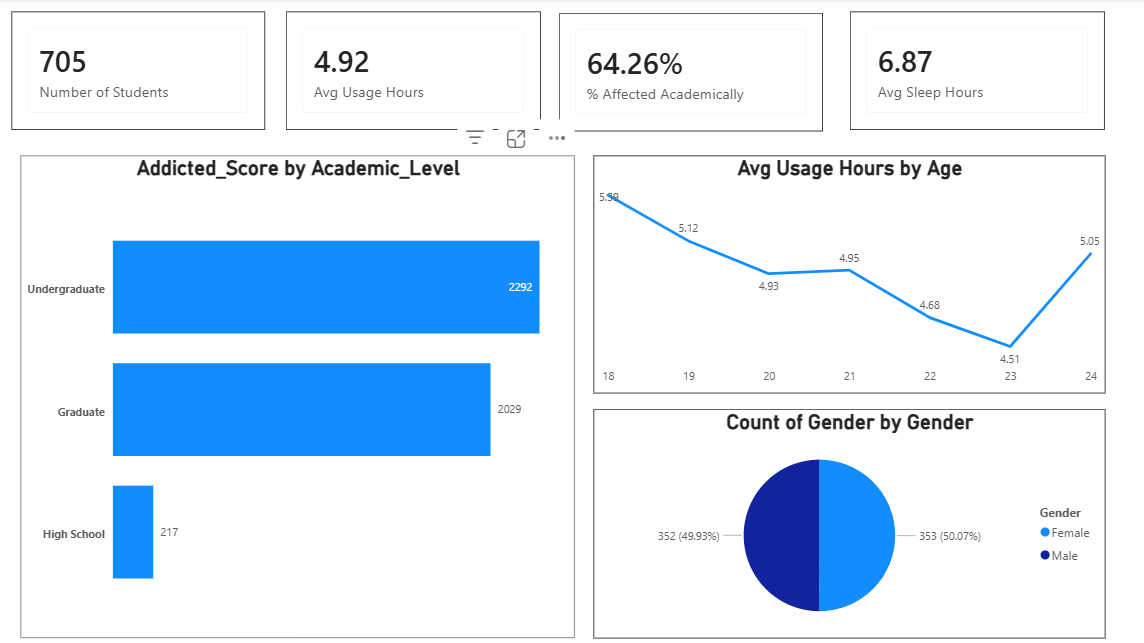

This screenshot's page, from the dashboard's own definition file:
{"tool":"powerbi","page":{"name":"Page 1","canvas":[1280,720],"ordinal":0},"visuals":[{"type":"cardVisual","fields":{"Data":["CountNonNull(Student Details.Student_ID)"]},"box":[18.9,15.1,279.7,130.4],"z":0},{"type":"cardVisual","fields":{"Data":["Student Details.Avg Usage Hours"]},"box":[321.3,15.1,281.6,130.4],"z":1000},{"type":"cardVisual","fields":{"Data":["Student Details.% Affected Academically"]},"box":[623.6,17,291,130.4],"z":2000},{"type":"cardVisual","fields":{"Data":["Student Details.Avg Sleep Hours"]},"box":[944.9,15.1,281.6,130.4],"z":3000},{"type":"barChart","title":"Addicted_Score by Academic_Level","fields":{"Category":["Student Details.Academic_Level"],"Y":["Sum(Student Details.Addicted_Score)"]},"box":[28.3,173.9,612.3,532.9],"z":4000},{"type":"lineChart","fields":{"Y":["Student Details.Avg Usage Hours"],"Category":["Student Details.Age"]},"box":[661.4,173.9,565,262.7],"z":5000},{"type":"pieChart","fields":{"Category":["Student Details.Gender"],"Y":["CountNonNull(Student Details.Gender)"]},"box":[661.4,453.5,565,253.2],"z":6000}]}

Visuals, with their boxes in screenshot pixels (x1, y1, x2, y2), scaled from the page's 1280x720 canvas onto the 1144x643 screenshot:
cardVisual - CountNonNull(Student Details.Student_ID): {"left": 17, "top": 13, "right": 267, "bottom": 130}
cardVisual - Student Details.Avg Usage Hours: {"left": 287, "top": 13, "right": 539, "bottom": 130}
cardVisual - Student Details.% Affected Academically: {"left": 557, "top": 15, "right": 817, "bottom": 132}
cardVisual - Student Details.Avg Sleep Hours: {"left": 845, "top": 13, "right": 1096, "bottom": 130}
"Addicted_Score by Academic_Level" barChart: {"left": 25, "top": 155, "right": 573, "bottom": 631}
lineChart - Student Details.Avg Usage Hours x Student Details.Age: {"left": 591, "top": 155, "right": 1096, "bottom": 390}
pieChart - Student Details.Gender x CountNonNull(Student Details.Gender): {"left": 591, "top": 405, "right": 1096, "bottom": 631}
